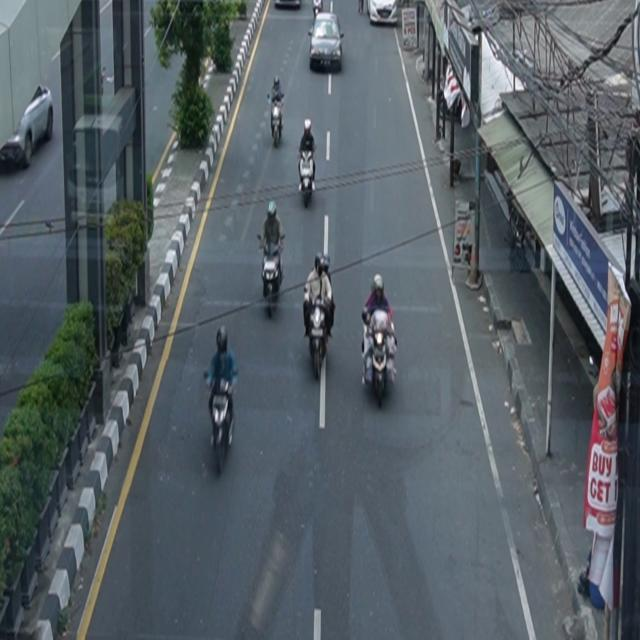car: (308, 12, 345, 72)
